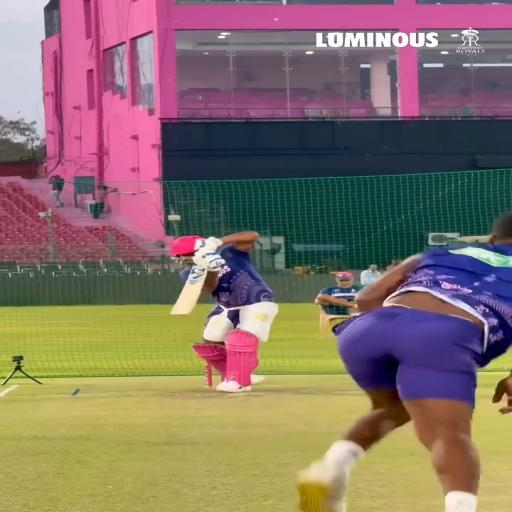Cricket bat: (170, 266, 207, 315)
